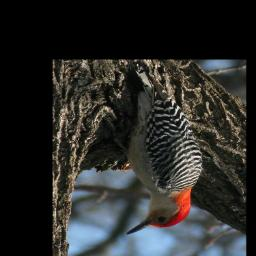Woodpecker: (110, 63, 205, 236)
